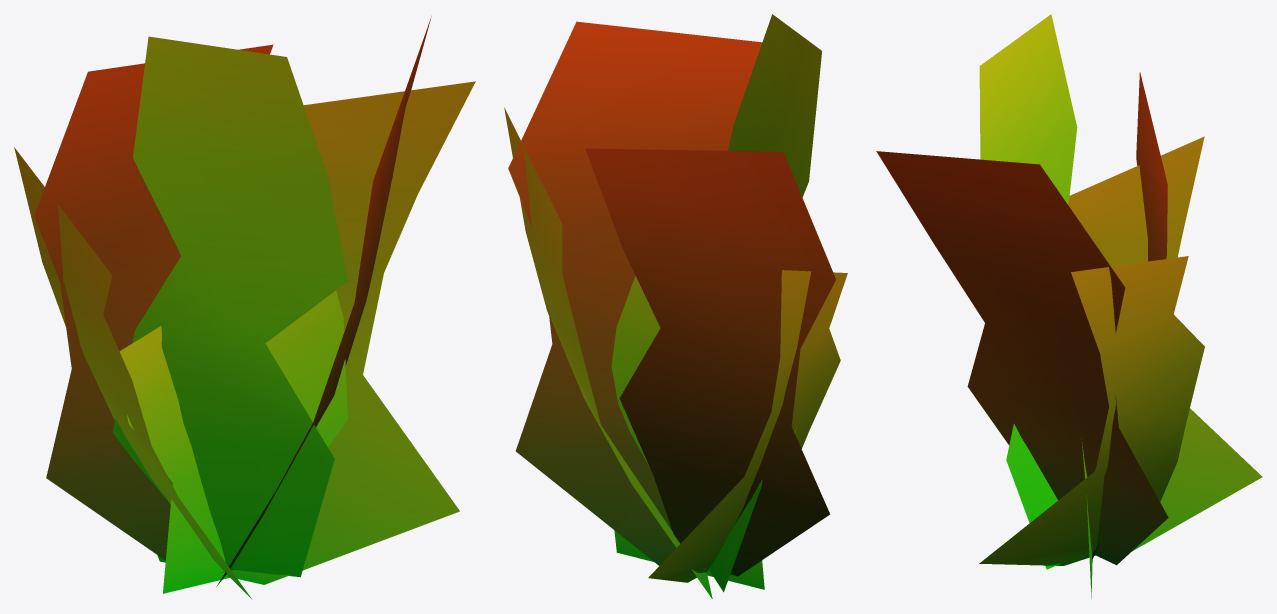
The model's file is Var8Hi15.fbx.
3 views of the same model, side by side, from view 1: azimuth 30°, elevation 25°; view 2: azimuth 150°, elevation 25°; view 3: azimuth 270°, elevation 25° (orthographic). The views are drawn at different scales.
Visible parts, largest first — view 1: bend1; view 2: bend1; view 3: bend1.
Part boxes in pixels (box(x1,y1,x2,y2)): bend1: box(14, 16, 475, 599); bend1: box(504, 14, 847, 598); bend1: box(876, 14, 1262, 598).
Bounding box in the file's own units: 1.27 × 1.76 × 1.23.
